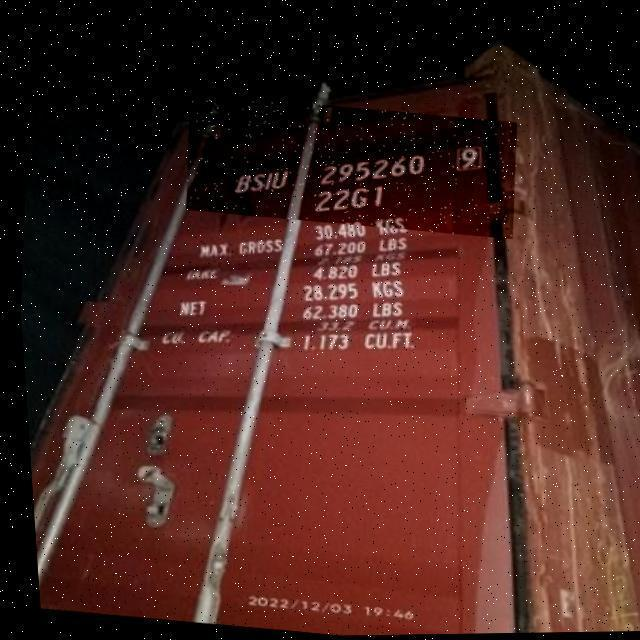container_number_h: (177, 90, 523, 244)
